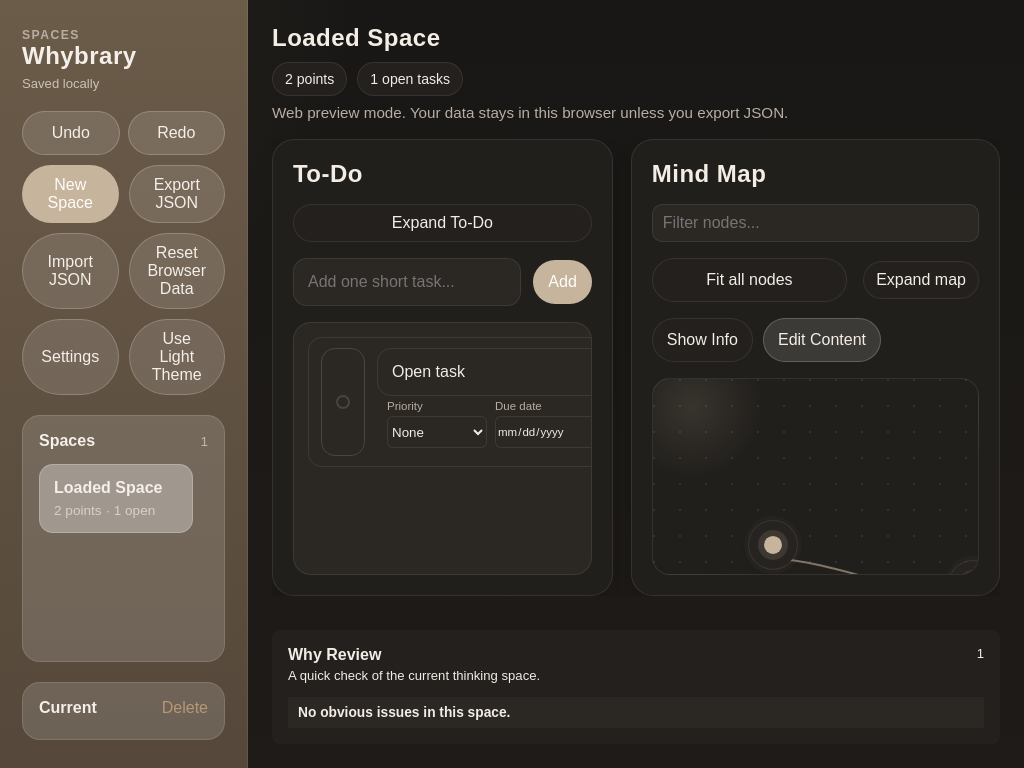
Scenario: App integration › exports the current snapshot as json
Expected: the heading "Loaded Space" is shown, [272, 24, 440, 51]
Step 1. Click the button "Export JSON" → click(177, 194), box [128, 165, 225, 223]
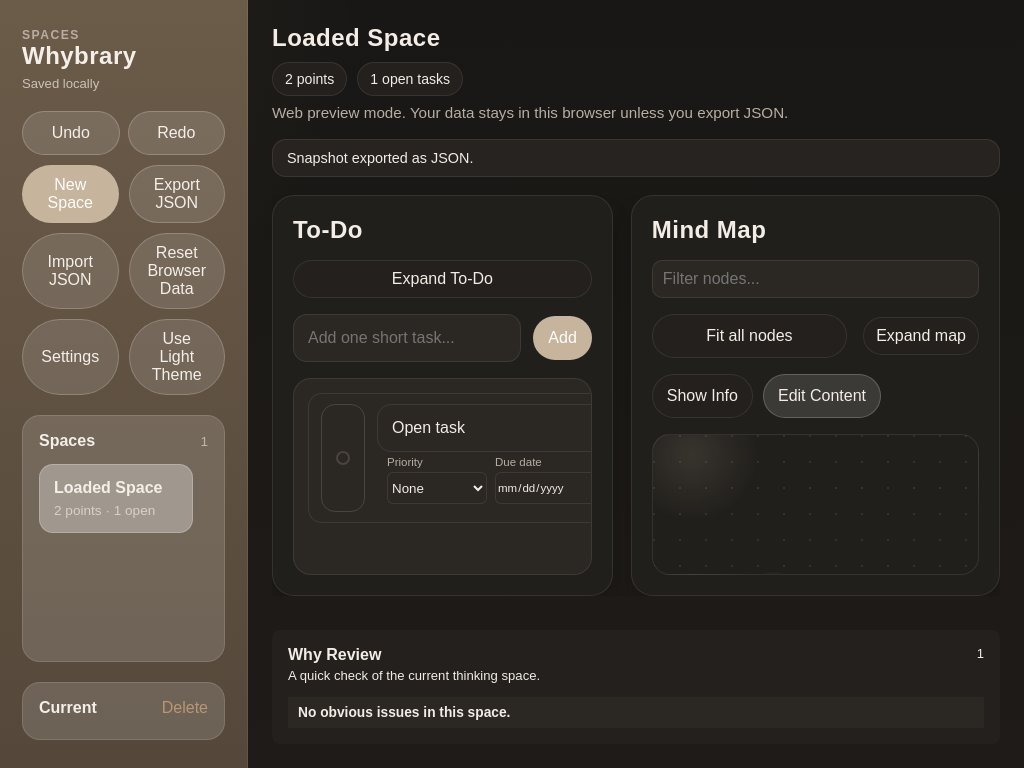
Expected: the text "Snapshot exported as JSON." is shown, [272, 139, 1000, 177]
